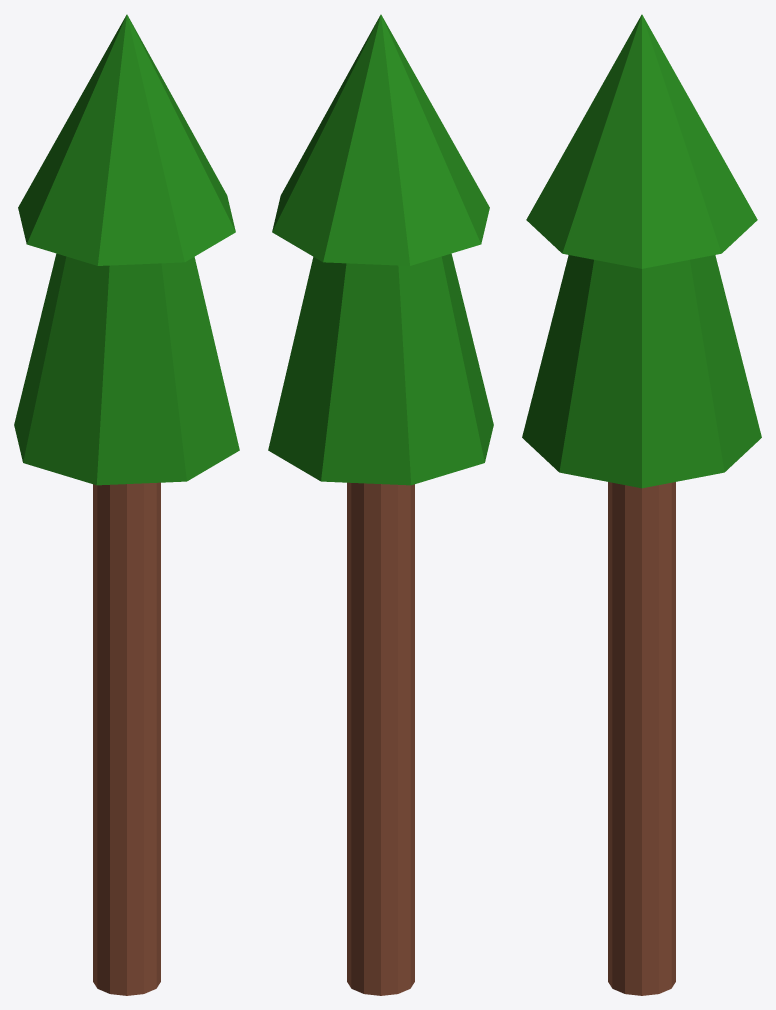
Rendered from tree3.glb.
The picture shows the model from 3 angles, left to right: view 1: azimuth 30°, elevation 25°; view 2: azimuth 150°, elevation 25°; view 3: azimuth 270°, elevation 25°; orthographic projection.
Parts seen in each view (by area): view 1: Tree_21_summer; view 2: Tree_21_summer; view 3: Tree_21_summer.
Part boxes in pixels (<box>): Tree_21_summer: <box>14,14,239,995</box>; Tree_21_summer: <box>268,14,493,995</box>; Tree_21_summer: <box>522,14,761,995</box>.
Size of the model in its own units: 0.7792 by 3.47 by 0.7792.
Materials: 1 (1 with a texture image).
